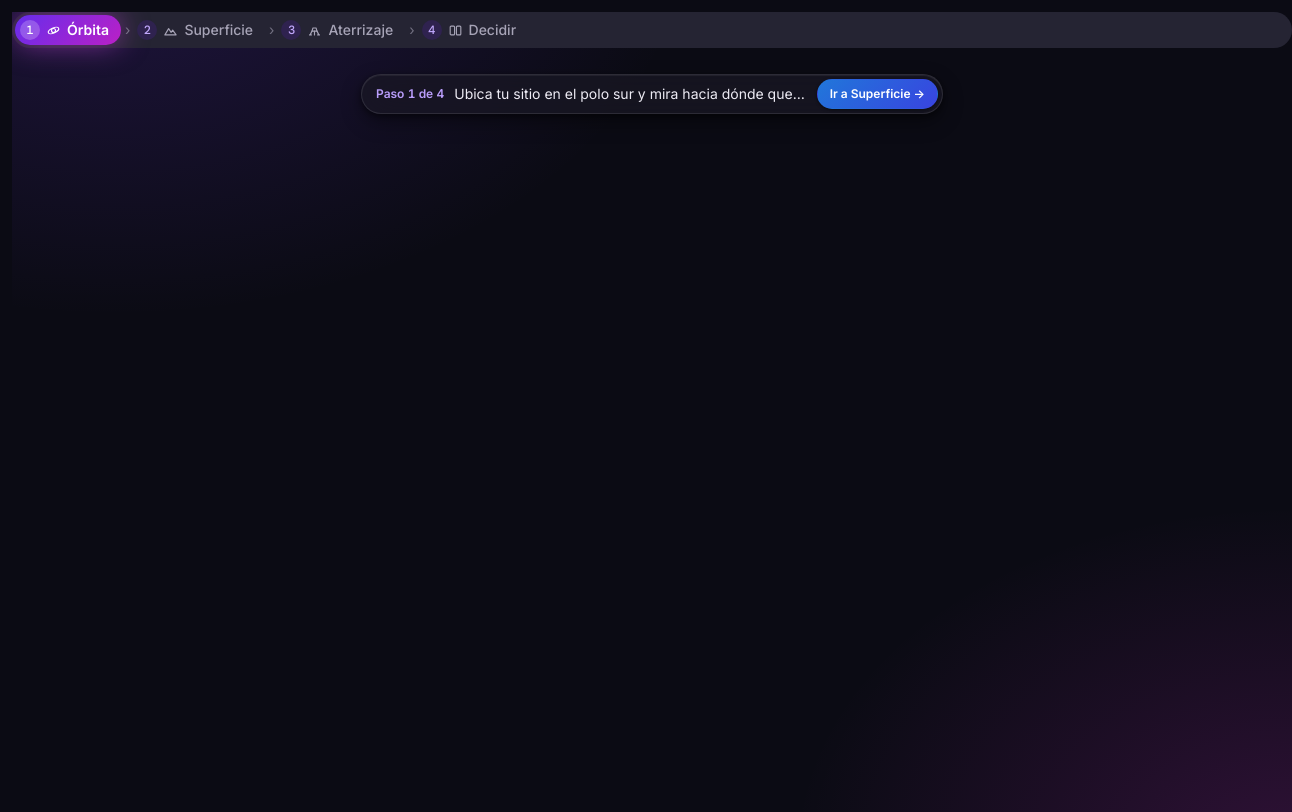
steps › StepBar ticks done steps and StepHint moves on
The image size is (1292, 812).
Expected: the text "Paso 1 de 4" is shown, [376, 85, 444, 103]
Click the button "Ir a Superficie →" at (877, 94), box [817, 79, 938, 109]
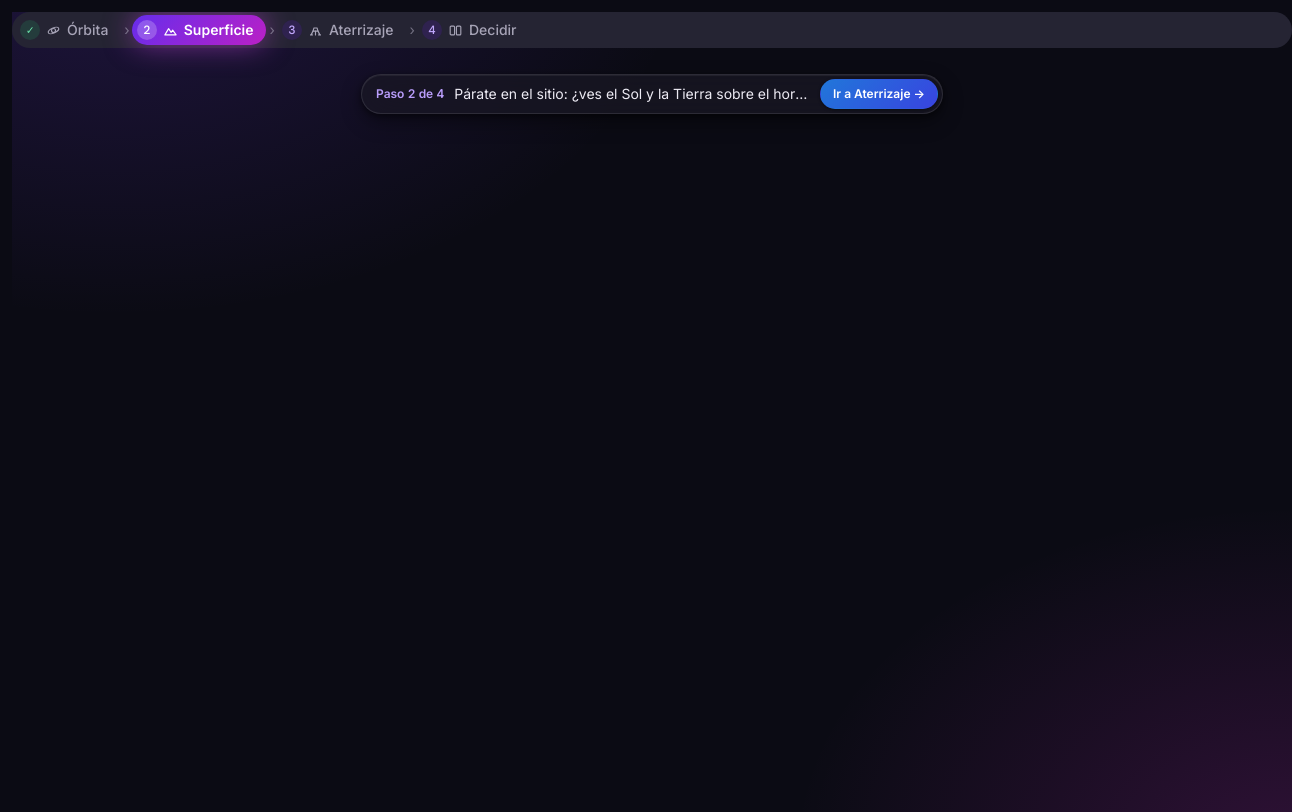
Expected: the button "2 Superficie" is shown, [132, 15, 266, 45]
Expected: the text "✓" is shown, [20, 20, 40, 40]
